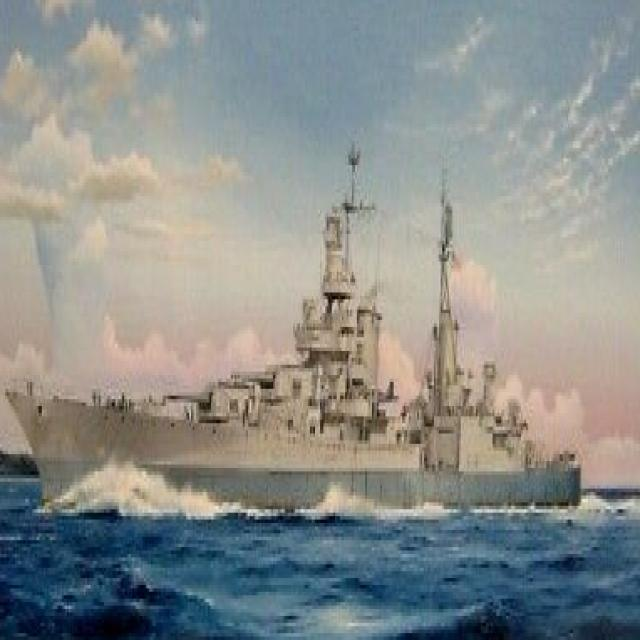navalvessels: (8, 138, 592, 549)
